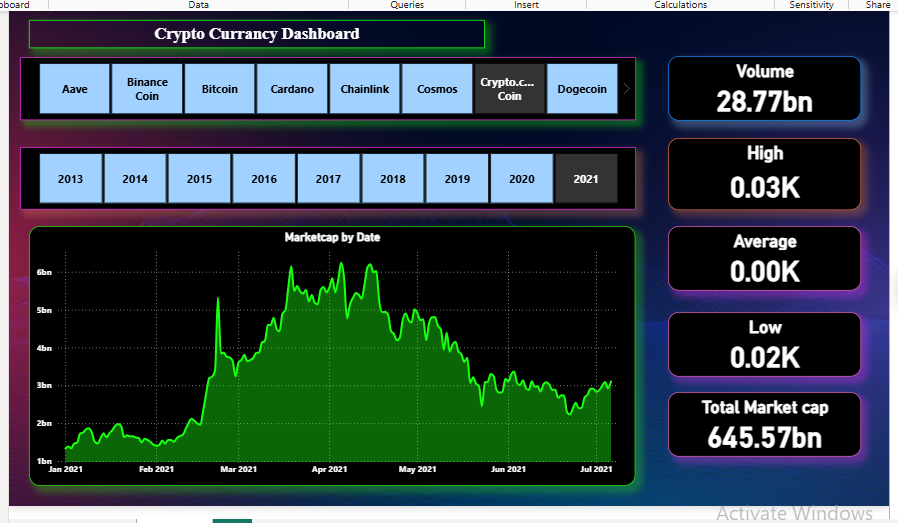

The dashboard page shown, as its layout file describes it:
{"tool":"powerbi","page":{"name":"Page 1","canvas":[1280,720],"ordinal":0},"visuals":[{"type":"card","title":"Volume","fields":{"Values":["Sum(CryptoData.Volume)"]},"box":[958.1,65.6,281.3,93.8],"z":0},{"type":"card","title":"High","fields":{"Values":["Sum(CryptoData.High)"]},"box":[958.1,184.4,281.3,104.7],"z":1000},{"type":"card","title":"Average","fields":{"Values":["Avg(CryptoData.High)"]},"box":[958.1,312.6,281.3,93.8],"z":2000},{"type":"card","title":"Low","fields":{"Values":["Sum(CryptoData.Low)"]},"box":[958.1,437.6,281.3,93.8],"z":3000},{"type":"card","title":"Total Market cap","fields":{"Values":["Sum(CryptoData.Marketcap)"]},"box":[958.1,554.9,281.3,93.8],"z":4000},{"type":"areaChart","title":" Marketcap by Date","fields":{"Y":["Sum(CryptoData.Marketcap)"],"Category":["CryptoData.Date.Variation.Date Hierarchy.Year","CryptoData.Date.Variation.Date Hierarchy.Quarter","CryptoData.Date.Variation.Date Hierarchy.Month","CryptoData.Date.Variation.Date Hierarchy.Day"]},"box":[29.7,312.6,881.5,378.2],"z":5000},{"type":"slicer","fields":{"Values":["CryptoData.Name"]},"box":[15.6,67.2,895.6,92.2],"z":6000},{"type":"slicer","fields":{"Values":["CryptoData.Date.Variation.Date Hierarchy.Year"]},"box":[15.6,198.5,895.6,90.7],"z":7000},{"type":"textbox","box":[29.7,12.5,662.7,40.6],"z":8000}]}

Visuals, with their boxes on the page's 1280x720 design canvas (x1, y1, x2, y2). These are canvas units, not pixel positions in the 898x523 screenshot, which may show the page scaled, cropped or inside an application window:
"Volume" card: bbox(958, 66, 1239, 159)
"High" card: bbox(958, 184, 1239, 289)
"Average" card: bbox(958, 313, 1239, 406)
"Low" card: bbox(958, 438, 1239, 531)
"Total Market cap" card: bbox(958, 555, 1239, 649)
" Marketcap by Date" areaChart: bbox(30, 313, 911, 691)
slicer - CryptoData.Name: bbox(16, 67, 911, 159)
slicer - CryptoData.Date.Variation.Date Hierarchy.Year: bbox(16, 198, 911, 289)
textbox: bbox(30, 12, 692, 53)
